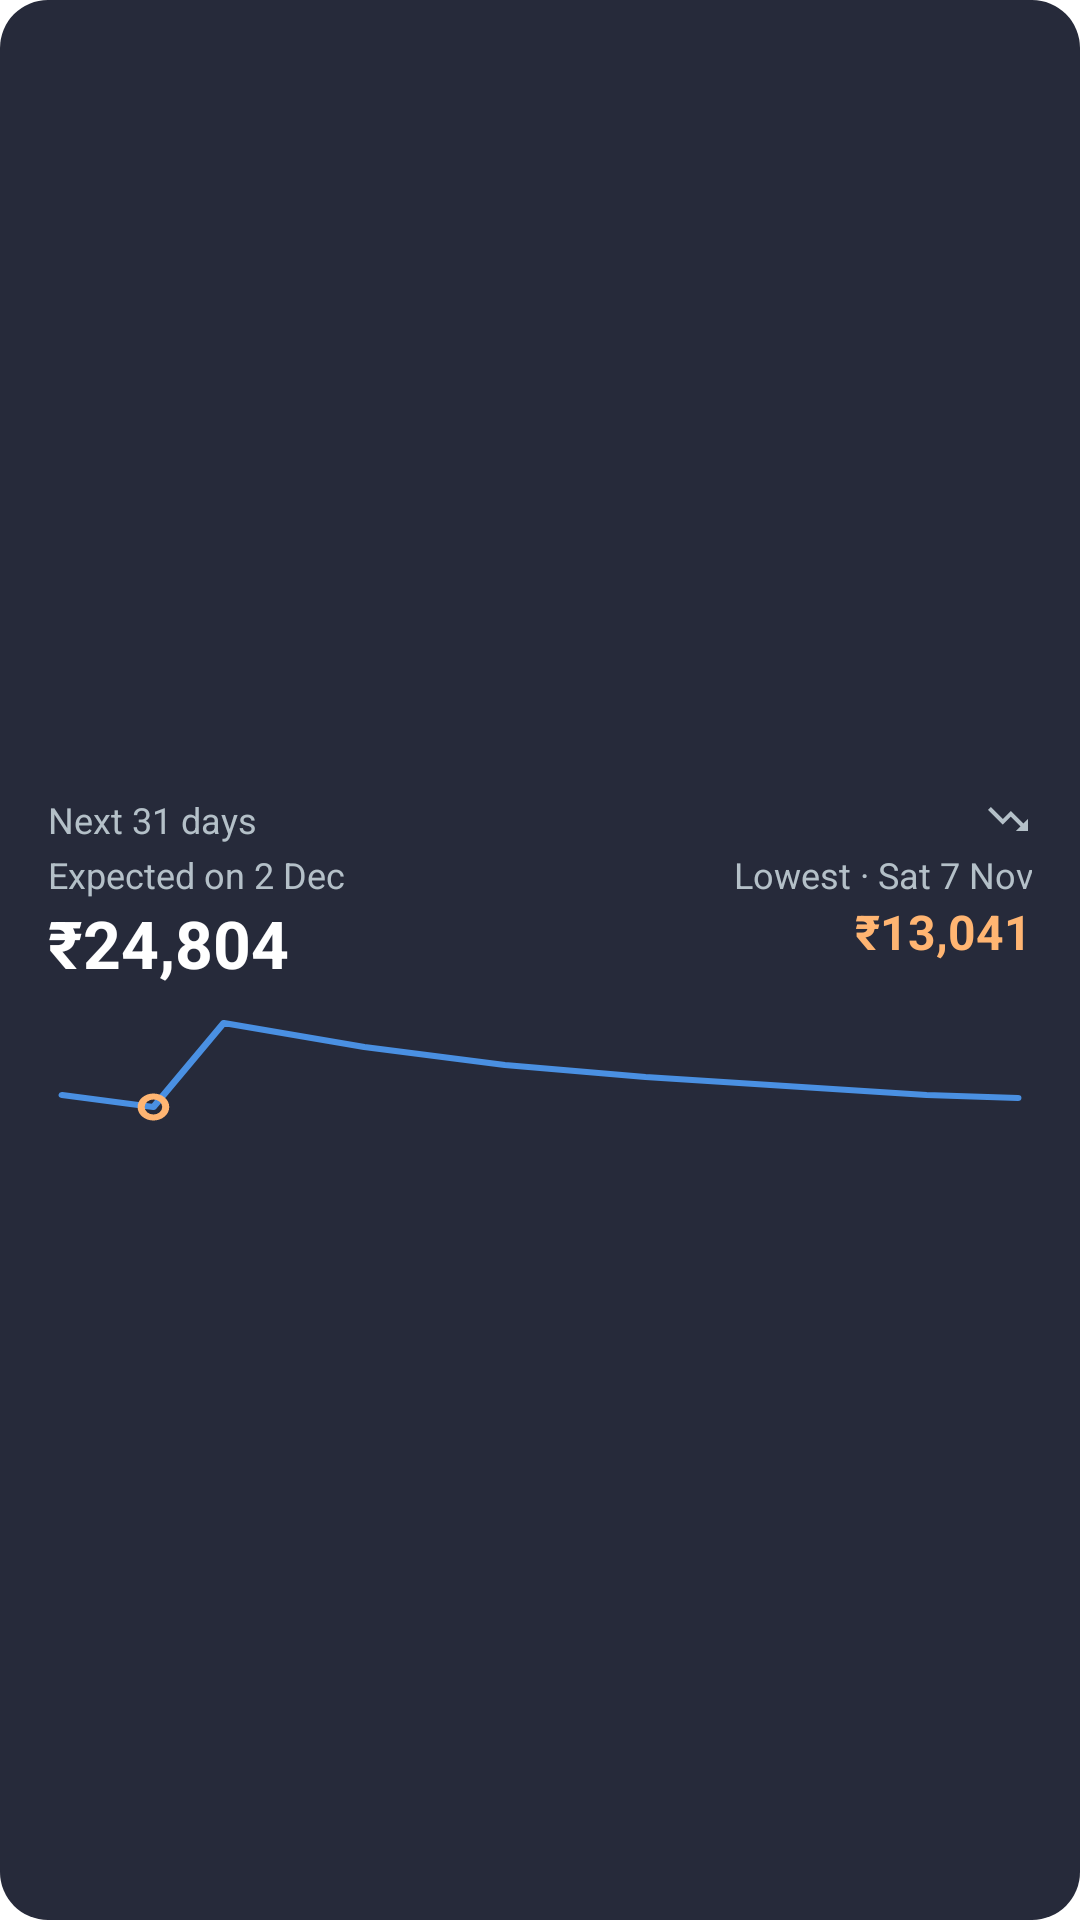

Where to tap for icons on this 1080 × 1920 app screen, as point (x, y):
widget trend: point (1008, 819)
